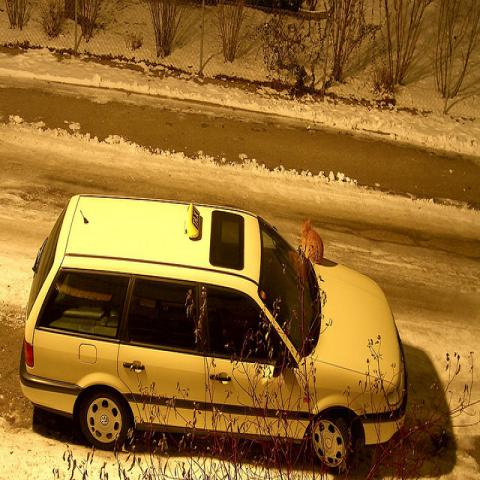car: (18, 198, 409, 474)
